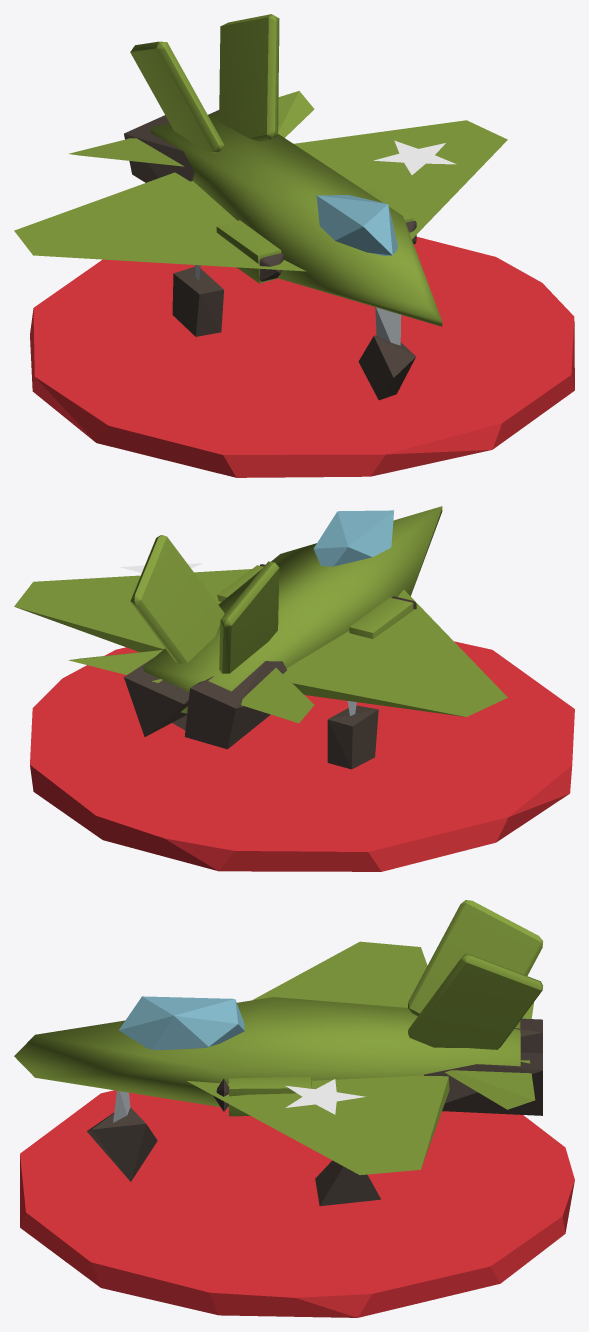
The model's file is usa_air_force_lod1.glb.
3 renders of one model, top to bottom at view 1: azimuth 30°, elevation 25°; view 2: azimuth 150°, elevation 25°; view 3: azimuth 270°, elevation 25°, orthographic.
Parts seen in each view (by area): view 1: base_pedestal, body_hull; view 2: base_pedestal, body_hull; view 3: base_pedestal, body_hull.
Boxes of the visible parts, <box> form: base_pedestal: <box>30,237,574,477</box>; body_hull: <box>14,14,507,400</box>; base_pedestal: <box>30,641,574,871</box>; body_hull: <box>14,506,507,769</box>; base_pedestal: <box>20,1090,574,1317</box>; body_hull: <box>14,900,543,1206</box>.
Size of the model in its own units: 0.776 by 0.4214 by 0.7835.
